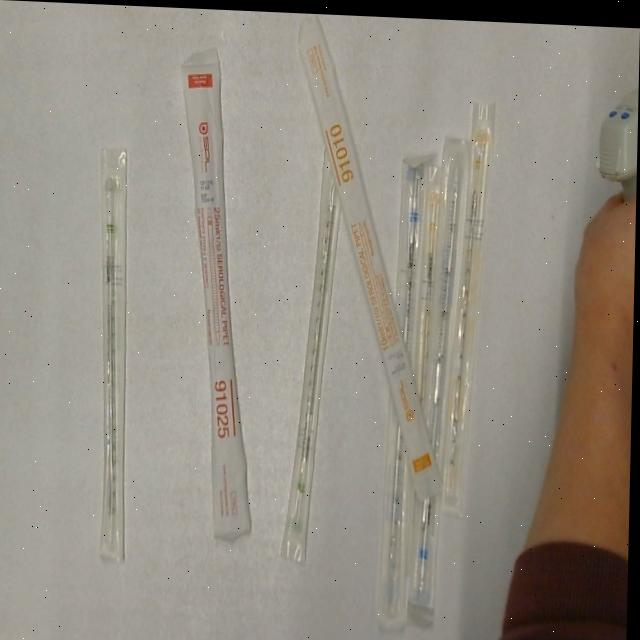Pipette Controller: (592, 70, 639, 216)
Serelogical Pipet 1 mL: (439, 89, 499, 505), (419, 157, 445, 418)
Serelogical Pipet 10 mL: (286, 14, 459, 500)
Serelogical Pipet 2 mL: (281, 138, 347, 565), (86, 134, 142, 571)
Serelogical Pipet 25 mL: (168, 43, 266, 549)
Serelogical Pipet 5 mL: (373, 140, 440, 636), (409, 126, 472, 612)
